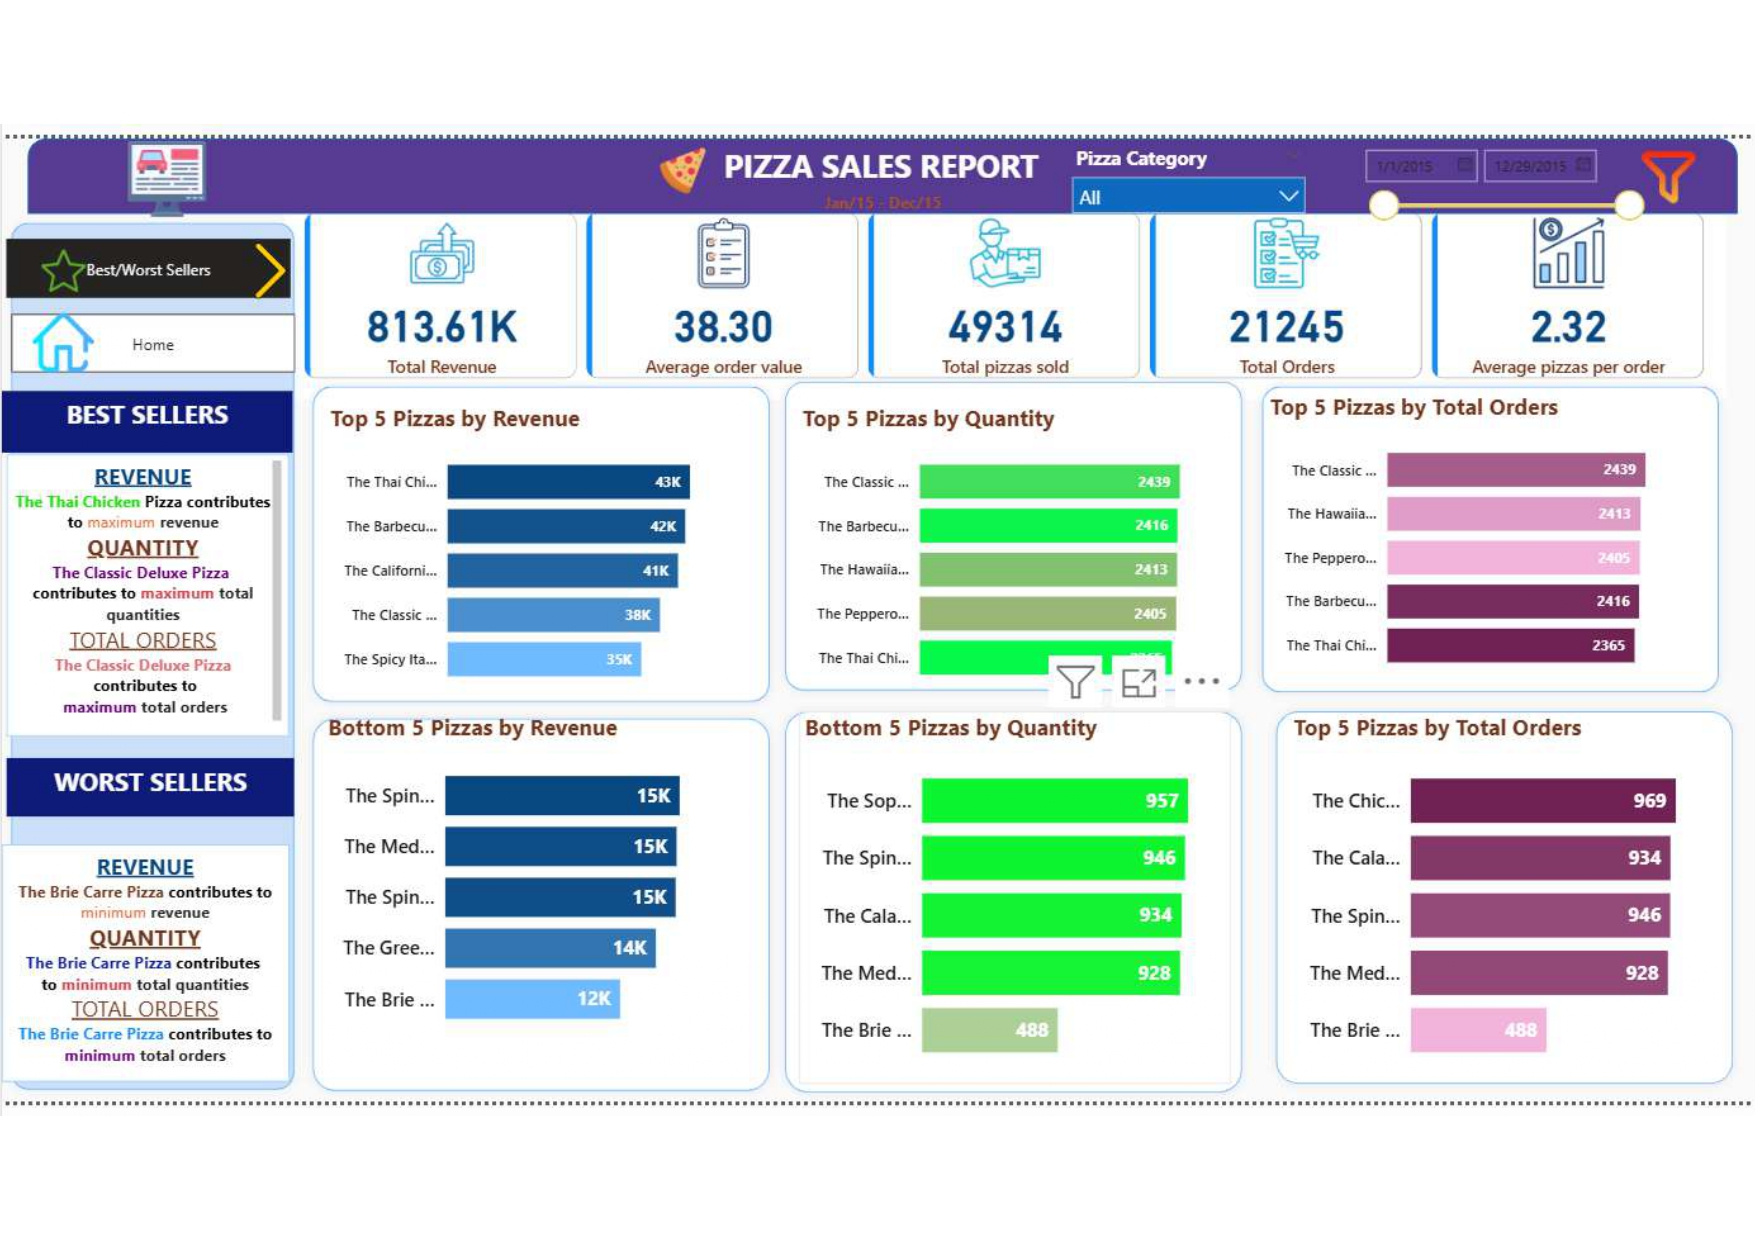

What the dashboard file says about the page in this screenshot:
{"tool":"powerbi","page":{"name":"Best/Worst Sellers","canvas":[1500,820],"ordinal":1},"visuals":[{"type":"cardVisual","fields":{"Data":["pizza_sales.Total Revenue","pizza_sales.Average order value","pizza_sales.Total pizzas sold","pizza_sales.Total Orders","pizza_sales.Average pizzas per order"]},"box":[241.1,46.4,1228.6,176.8],"z":0},{"type":"shape","box":[21.4,0,1457.1,64.3],"z":1000},{"type":"textbox","box":[678.6,39.3,142.9,28.6],"z":2000},{"type":"textbox","box":[578.6,0,342.9,46.4],"z":3000},{"type":"image","box":[559.5,0,40.5,54.8],"z":4000},{"type":"shape","box":[257,202.6,405.3,285],"z":5000},{"type":"shape","box":[0,64.3,257.1,754.8],"z":6000},{"type":"textbox","box":[0,214.3,247.6,52.4],"z":7000},{"type":"textbox","box":[4.8,269,240.5,240.5],"z":8000},{"type":"textbox","box":[4.8,528.6,245.2,50],"z":9000},{"type":"textbox","box":[0,602.4,245.2,202.4],"z":10000},{"type":"slicer","fields":{"Values":["pizza_sales.pizza_category"]},"box":[901.8,0,217.9,64.3],"z":11000},{"type":"slicer","fields":{"Values":["pizza_sales.order_date"]},"box":[1150,0,259.5,85.7],"z":12000},{"type":"shape","box":[659.8,200.2,405.3,279.2],"z":13000},{"type":"shape","box":[1065,202.6,405.3,276.8],"z":14000},{"type":"shape","box":[1077.4,479.4,405.3,333.6],"z":15000},{"type":"shape","box":[659.8,479.4,405.3,341],"z":16000},{"type":"shape","box":[257,486.8,405.3,333.6],"z":17000},{"type":"barChart","title":"Top 5 Pizzas by Revenue","fields":{"Category":["pizza_sales.pizza_name"],"Y":["pizza_sales.Total Revenue"]},"box":[274.3,224.9,368.2,254.5],"z":18000},{"type":"barChart","title":"Bottom 5 Pizzas by Revenue","fields":{"Category":["pizza_sales.pizza_name"],"Y":["pizza_sales.Total Revenue"]},"box":[273.8,488.1,369,285.7],"z":19000},{"type":"barChart","title":"Top 5 Pizzas by Quantity","fields":{"Category":["pizza_sales.pizza_name"],"Y":["pizza_sales.Total pizzas sold"]},"box":[676.5,225.5,369,252.8],"z":20000},{"type":"barChart","title":"Bottom 5 Pizzas by Quantity","fields":{"Category":["pizza_sales.pizza_name"],"Y":["pizza_sales.Total pizzas sold"]},"box":[678.6,488.1,369,316.7],"z":21000},{"type":"barChart","title":"Top 5 Pizzas by Total Orders","fields":{"Category":["pizza_sales.pizza_name"],"Y":["pizza_sales.Total Orders"]},"box":[1076.2,214.3,369,252.4],"z":22000},{"type":"barChart","title":"Top 5 Pizzas by Total Orders","fields":{"Category":["pizza_sales.pizza_name"],"Y":["pizza_sales.Total Orders"]},"box":[1095.2,488.1,369,316.7],"z":23000},{"type":"pageNavigator","box":[4.8,85.7,242.9,50],"z":24000},{"type":"pageNavigator","box":[7.1,150,242.9,50],"z":25000},{"type":"image","box":[204.8,88.1,47.6,50],"z":26000},{"type":"image","box":[0,147.6,104.8,52.4],"z":27000},{"type":"image","box":[23.8,92.9,57.1,38.1],"z":28000},{"type":"image","box":[1359.5,0,119,64.3],"z":29000},{"type":"image","box":[54.8,0,173.8,69],"z":29001}]}

Visuals, with their boxes on the page's 1500x820 design canvas (x1, y1, x2, y2). These are canvas units, not pixel positions in the 1755x1240 screenshot, which may show the page scaled, cropped or inside an application window:
cardVisual - pizza_sales.Total Revenue x pizza_sales.Average order value: x1=241, y1=46, x2=1470, y2=223
shape: x1=21, y1=0, x2=1478, y2=64
textbox: x1=679, y1=39, x2=822, y2=68
textbox: x1=579, y1=0, x2=922, y2=46
image: x1=560, y1=0, x2=600, y2=55
shape: x1=257, y1=203, x2=662, y2=488
shape: x1=0, y1=64, x2=257, y2=819
textbox: x1=0, y1=214, x2=248, y2=267
textbox: x1=5, y1=269, x2=245, y2=510
textbox: x1=5, y1=529, x2=250, y2=579
textbox: x1=0, y1=602, x2=245, y2=805
slicer - pizza_sales.pizza_category: x1=902, y1=0, x2=1120, y2=64
slicer - pizza_sales.order_date: x1=1150, y1=0, x2=1410, y2=86
shape: x1=660, y1=200, x2=1065, y2=479
shape: x1=1065, y1=203, x2=1470, y2=479
shape: x1=1077, y1=479, x2=1483, y2=813
shape: x1=660, y1=479, x2=1065, y2=820
shape: x1=257, y1=487, x2=662, y2=820
"Top 5 Pizzas by Revenue" barChart: x1=274, y1=225, x2=642, y2=479
"Bottom 5 Pizzas by Revenue" barChart: x1=274, y1=488, x2=643, y2=774
"Top 5 Pizzas by Quantity" barChart: x1=676, y1=226, x2=1046, y2=478
"Bottom 5 Pizzas by Quantity" barChart: x1=679, y1=488, x2=1048, y2=805
"Top 5 Pizzas by Total Orders" barChart: x1=1076, y1=214, x2=1445, y2=467
"Top 5 Pizzas by Total Orders" barChart: x1=1095, y1=488, x2=1464, y2=805
pageNavigator: x1=5, y1=86, x2=248, y2=136
pageNavigator: x1=7, y1=150, x2=250, y2=200
image: x1=205, y1=88, x2=252, y2=138
image: x1=0, y1=148, x2=105, y2=200
image: x1=24, y1=93, x2=81, y2=131
image: x1=1360, y1=0, x2=1478, y2=64
image: x1=55, y1=0, x2=229, y2=69
